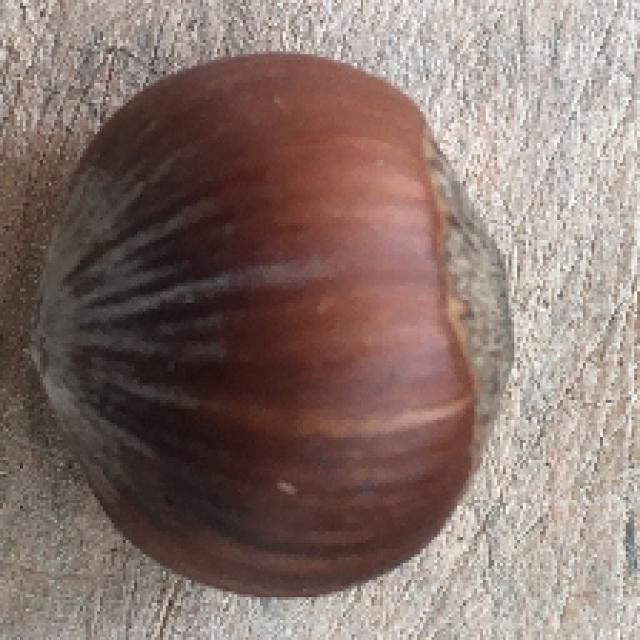damagedHazelnut: (43, 51, 511, 601)
